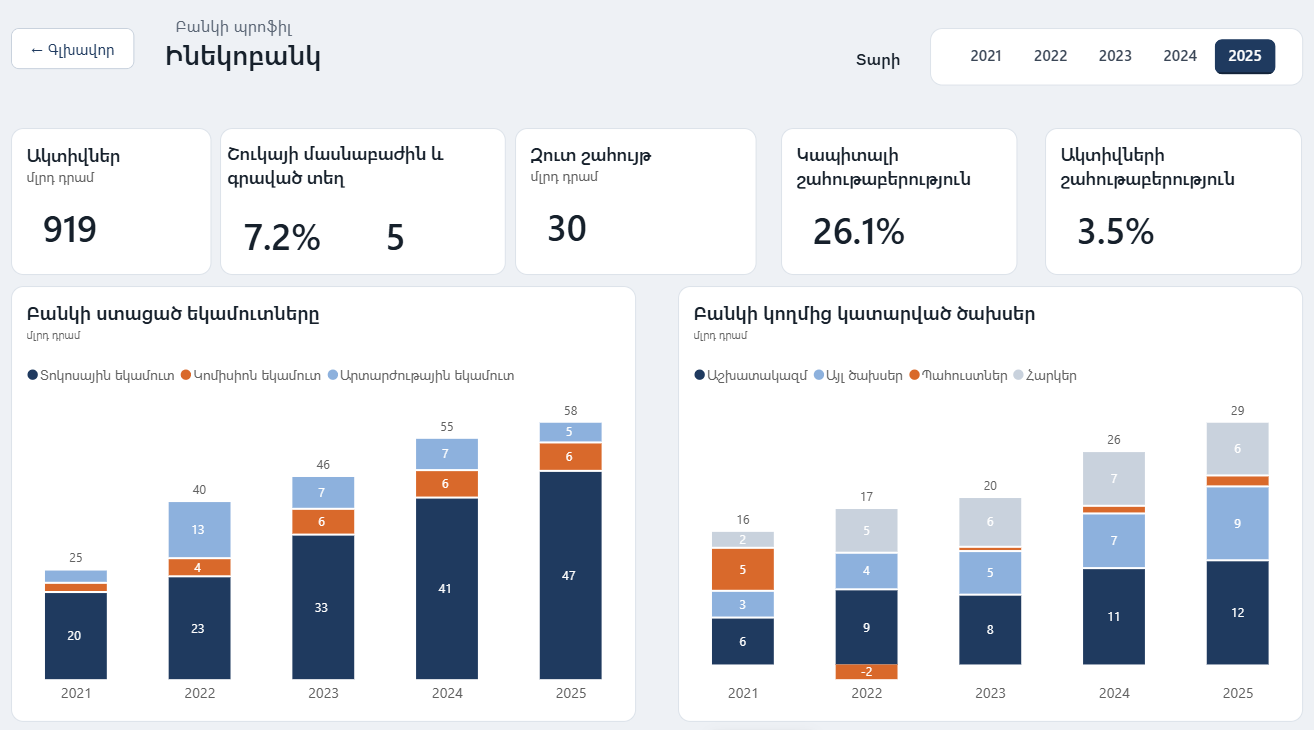

The dashboard page shown, as its layout file describes it:
{"tool":"powerbi","page":{"name":"Բանկի պրոֆիլ","canvas":[1280,720],"ordinal":4},"visuals":[{"type":"actionButton","box":[12.5,31.2,120,40],"z":0},{"type":"cardVisual","fields":{"Data":["_Measures.Bank_Title"]},"box":[132.5,25,370,61.2],"z":1000},{"type":"textbox","box":[158.8,6.2,185,45],"z":2000},{"type":"advancedSlicerVisual","fields":{"Values":["Dim_Year.Year"]},"box":[906.7,30.8,362.5,56.2],"z":3000},{"type":"textbox","title":"Տարի","box":[817.9,38.3,76.2,41.2],"z":4000},{"type":"cardVisual","title":"Կապիտալի շահութաբերություն","fields":{"Data":["_Measures.ROE%"]},"box":[761.2,128.8,230,142.5],"z":5000},{"type":"cardVisual","title":"Շուկայի մասնաբաժին և գրաված տեղ","fields":{"Data":["_Measures.Market_Share%","_Measures.Rank_by_Assets"]},"box":[216.2,128.8,277.5,142.5],"z":6000},{"type":"cardVisual","title":"Զուտ շահույթ","fields":{"Data":["_Measures.KPI_NetProfit"]},"box":[502.5,128.8,235,142.5],"z":7000},{"type":"cardVisual","title":"Ակտիվներ","fields":{"Data":["_Measures.KPI_Assets"]},"box":[12.5,128.8,195,142.5],"z":8000},{"type":"cardVisual","title":"Ակտիվների շահութաբերություն","fields":{"Data":["_Measures.ROA%"]},"box":[1018.8,128.8,250,142.5],"z":9000},{"type":"columnChart","title":"Բանկի ստացած եկամուտները","fields":{"Category":["Dim_Year.Year"],"Y":["Sum(Fact_Bank.net_interest_income)","Sum(Fact_Bank.net_fee_commission_income)","Sum(Fact_Bank.net_trading_fx_income)"]},"box":[12.6,282.1,606.9,411.4],"z":10000},{"type":"columnChart","title":"Բանկի կողմից կատարված ծախսեր","fields":{"Category":["Dim_Year.Year"],"Y":["Sum(Fact_Bank.staff_costs)","Sum(Fact_Bank.other_operating_expenses)","Sum(Fact_Bank.impairment_charge)","Sum(Fact_Bank.income_tax_expense)"]},"box":[661.4,282.1,606.9,411.4],"z":11000}]}

Visuals, with their boxes in screenshot pixels (x1, y1, x2, y2), scaled from the page's 1280x720 canvas onto the 1314x730 screenshot:
actionButton: <box>13,32,136,72</box>
cardVisual - _Measures.Bank_Title: <box>136,25,516,87</box>
textbox: <box>163,6,353,52</box>
advancedSlicerVisual - Dim_Year.Year: <box>931,31,1303,88</box>
"Տարի" textbox: <box>840,39,918,81</box>
"Կապիտալի շահութաբերություն" cardVisual: <box>781,131,1018,275</box>
"Շուկայի մասնաբաժին և գրաված տեղ" cardVisual: <box>222,131,507,275</box>
"Զուտ շահույթ" cardVisual: <box>516,131,757,275</box>
"Ակտիվներ" cardVisual: <box>13,131,213,275</box>
"Ակտիվների շահութաբերություն" cardVisual: <box>1046,131,1303,275</box>
"Բանկի ստացած եկամուտները" columnChart: <box>13,286,636,703</box>
"Բանկի կողմից կատարված ծախսեր" columnChart: <box>679,286,1302,703</box>
